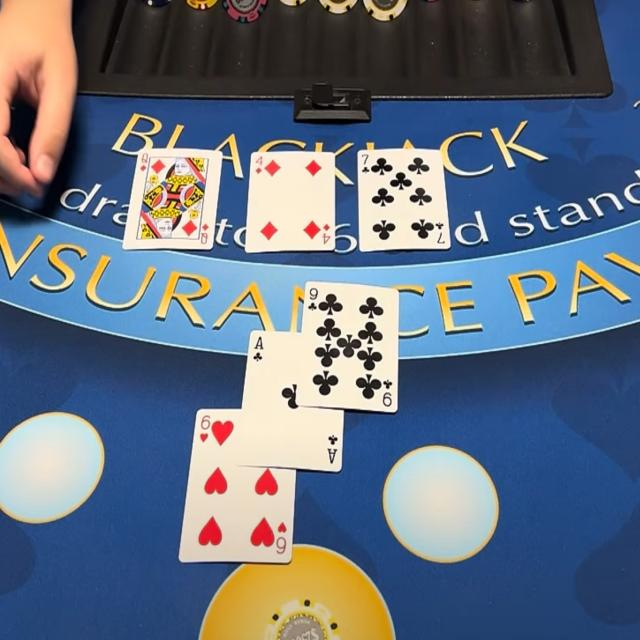4: (253, 153, 265, 167)
6: (198, 413, 212, 433)
7: (360, 151, 371, 166)
9: (307, 286, 320, 302)
A: (252, 334, 266, 352)
Q: (138, 151, 149, 165)
